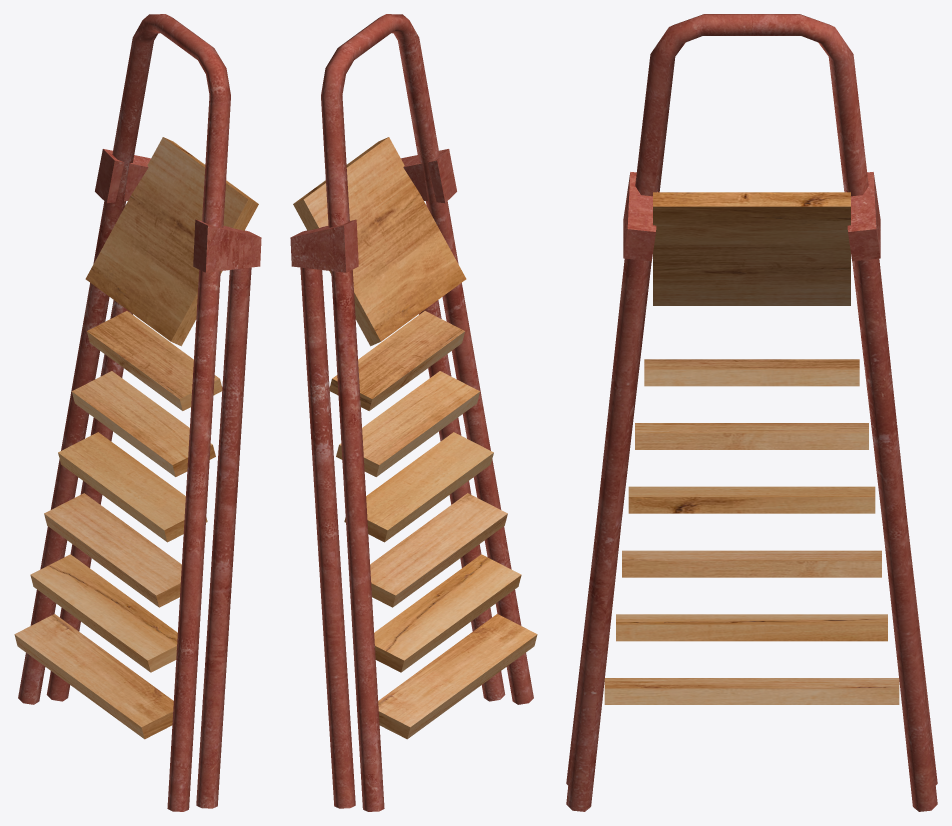
The model's file is Ladder.fbx.
The picture shows the model from 3 angles, left to right: view 1: azimuth 30°, elevation 25°; view 2: azimuth 150°, elevation 25°; view 3: azimuth 270°, elevation 25°; orthographic projection. The views are drawn at different scales.
Parts seen in each view (by area): view 1: Cylinder.052; view 2: Cylinder.052; view 3: Cylinder.052.
Boxes of the visible parts, box(x1,y1,x2,y2) form: Cylinder.052: box(14, 14, 261, 811); Cylinder.052: box(290, 14, 537, 811); Cylinder.052: box(566, 14, 937, 811).
Bounding box in the file's own units: 52.23 × 257 × 105.
